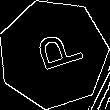P_W: (23, 28, 83, 80)
